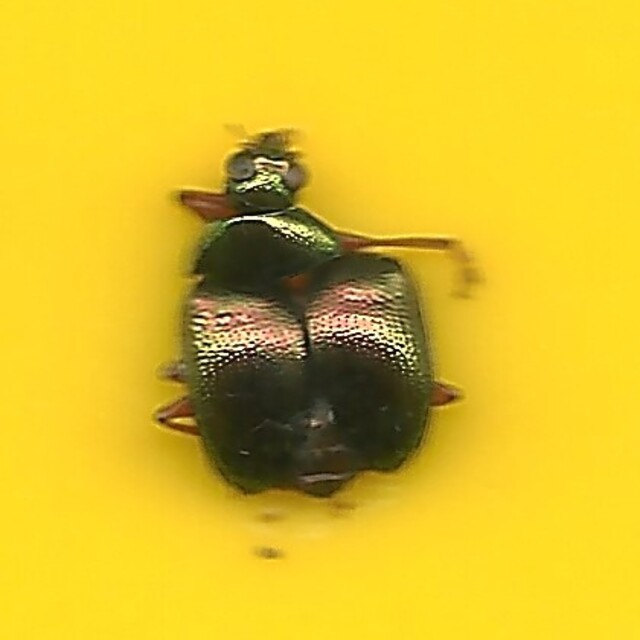Coleoptera: (152, 129, 488, 511)
